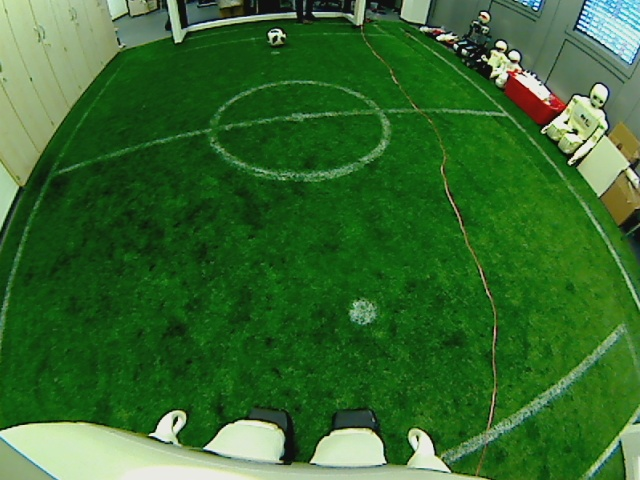ball: (266, 27, 287, 46)
